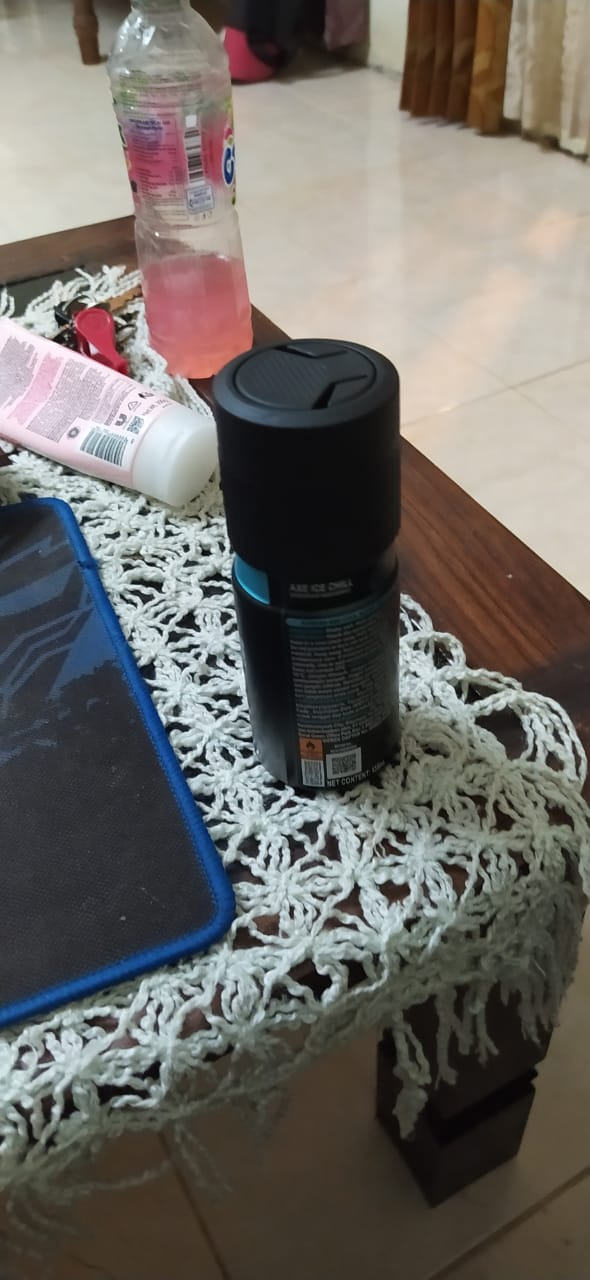axe: (209, 335, 412, 816)
